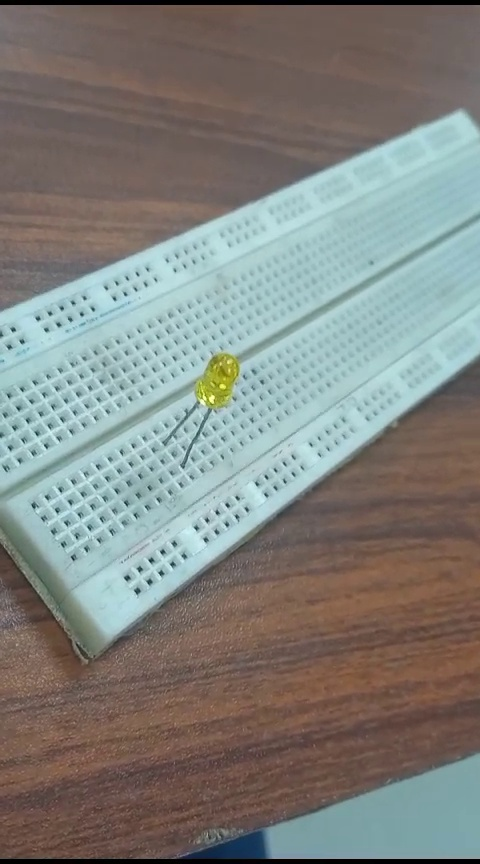LED: (168, 344, 254, 467)
